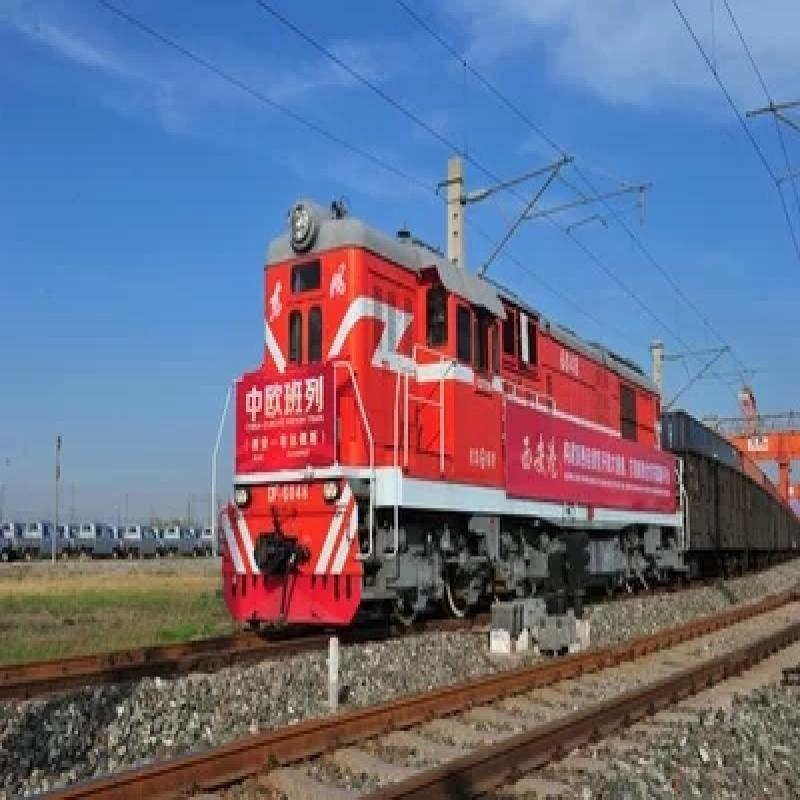train: (201, 185, 689, 648)
